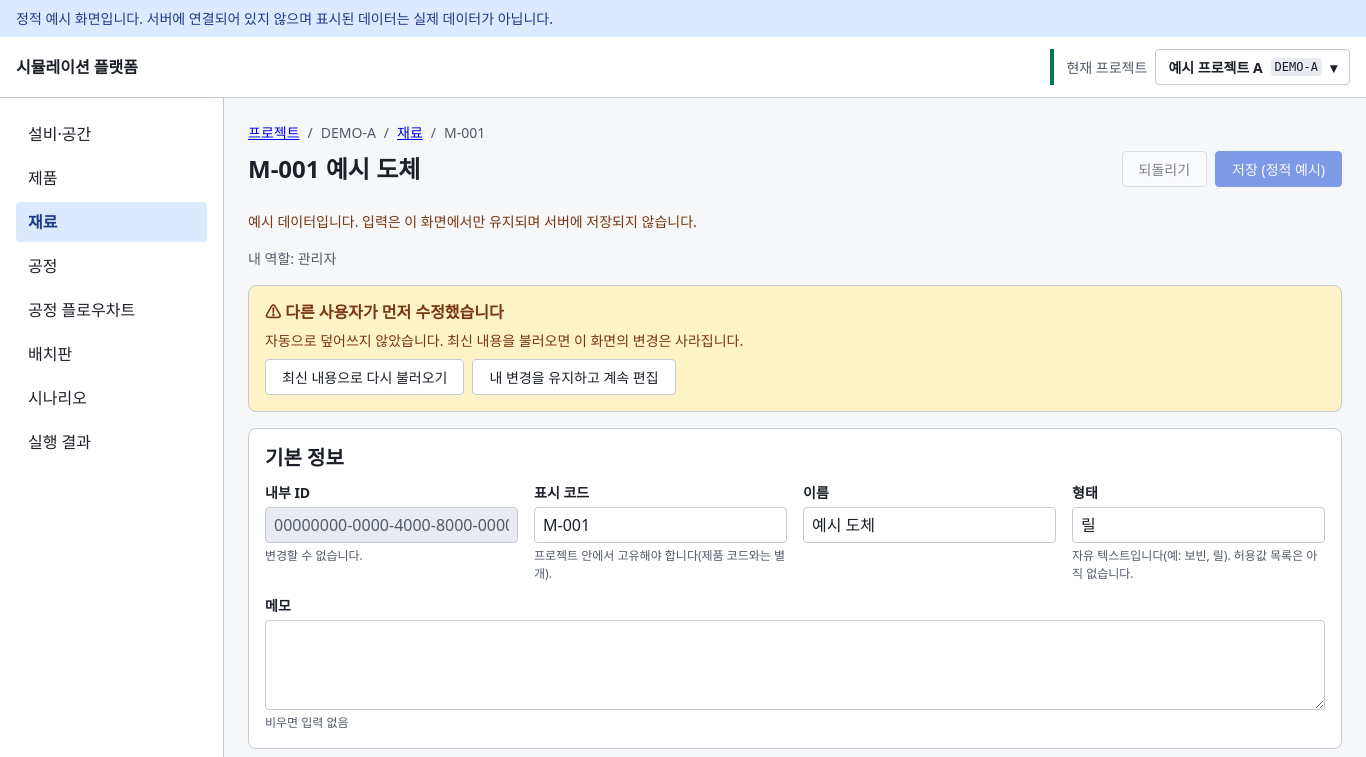
Test case: 재료 상세·편집 (정적 예시) › 수정 충돌 미리보기는 자동 덮어쓰기 없이 선택지를 준다
Expected: the heading "⚠ 다른 사용자가 먼저 수정했습니다" is shown, [265,301,504,323]
What coordinates should you click on to do the following:
click the button "내 변경을 유지하고 계속 편집"
I would click on:
 (574, 377)
Its box is [472,359,676,395].
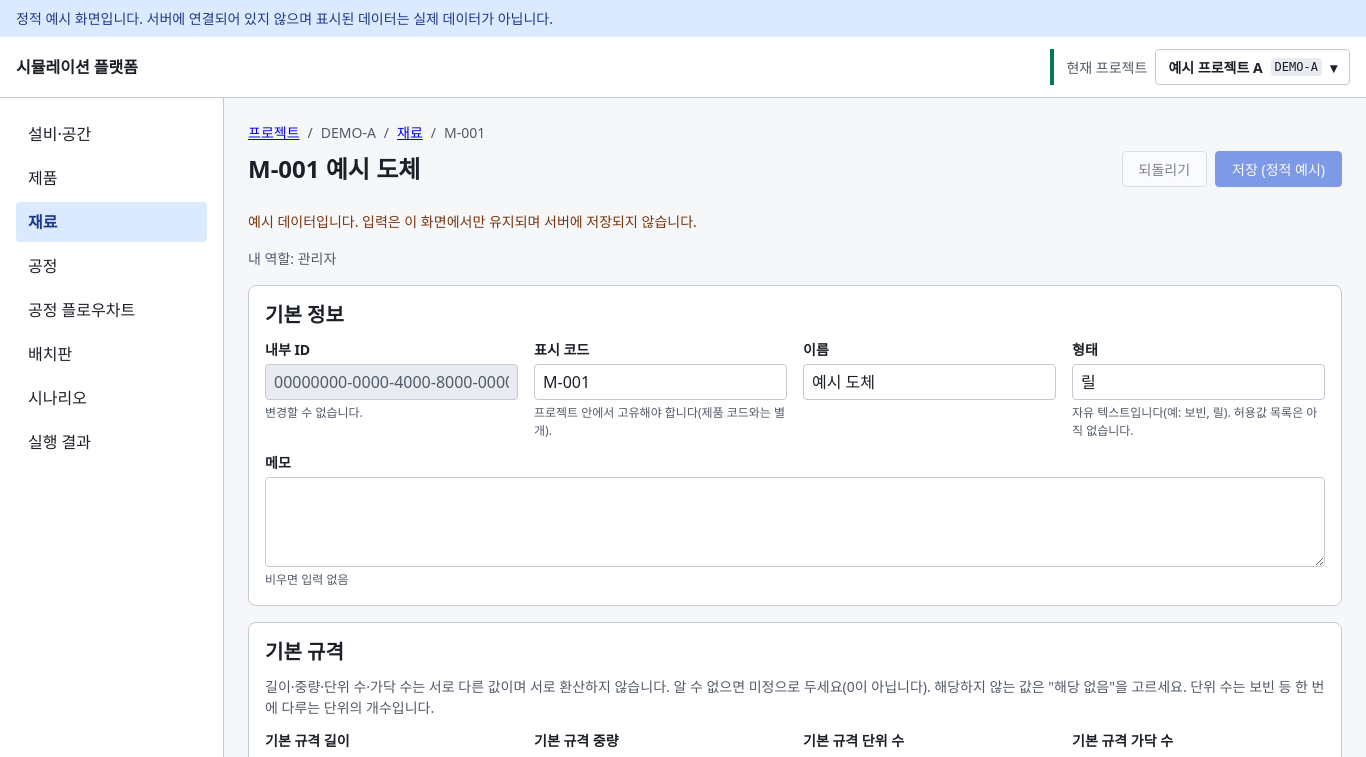
Expected: the heading "다른 사용자가 먼저 수정했습니다" is gone
